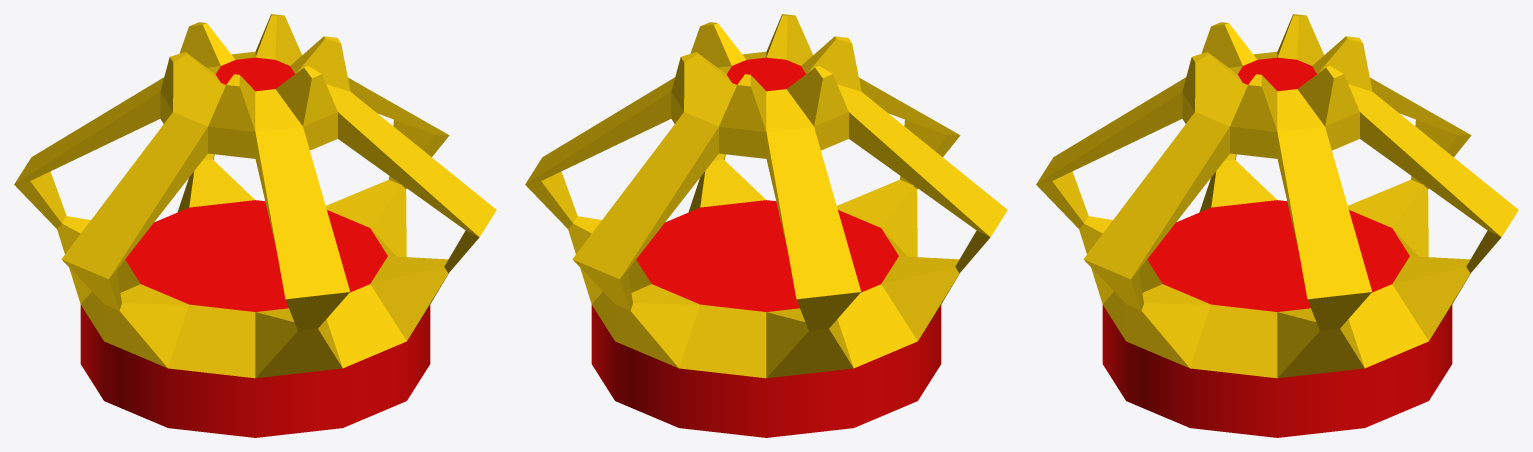
Rendered from crown.fbx.
3 views of the same model, side by side, from view 1: azimuth 30°, elevation 25°; view 2: azimuth 150°, elevation 25°; view 3: azimuth 270°, elevation 25° (orthographic).
Parts seen in each view (by area): view 1: Cylinder01; view 2: Cylinder01; view 3: Cylinder01.
Part boxes in pixels (bbox=[...]): Cylinder01: bbox=[14, 14, 496, 437]; Cylinder01: bbox=[525, 14, 1007, 437]; Cylinder01: bbox=[1036, 14, 1518, 437].
Bounding box in the file's own units: 5.24 × 3.81 × 5.24.
Materials: 1 (1 with a texture image).
